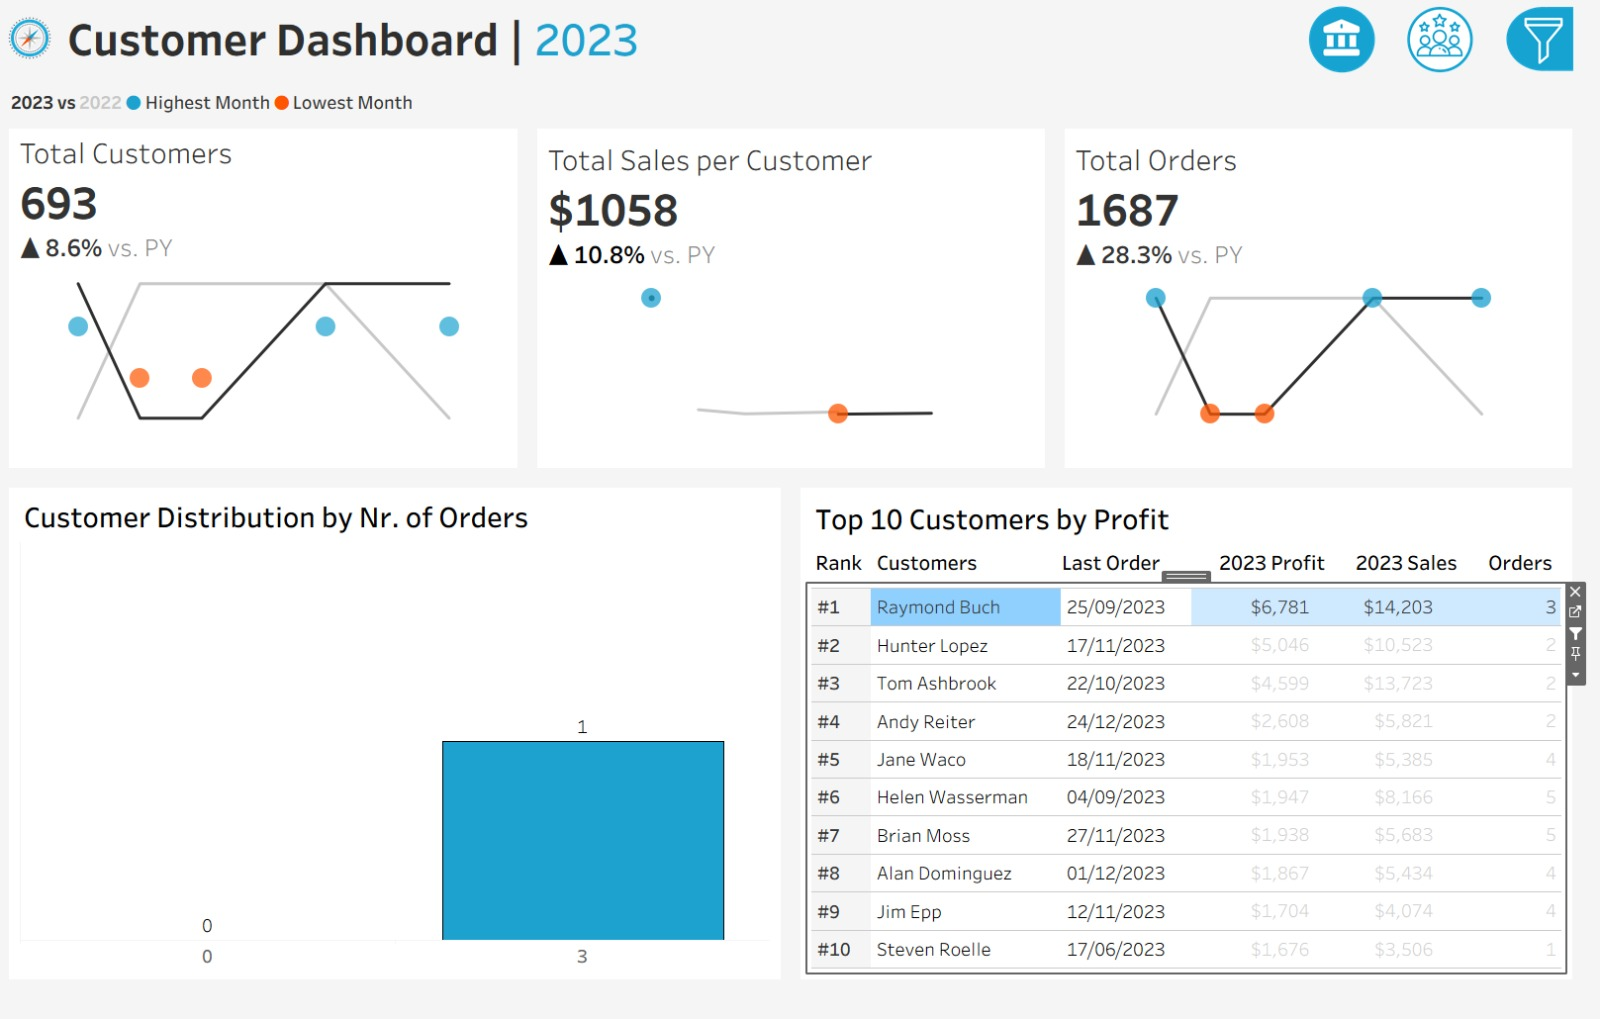

The dashboard page shown, as its layout file describes it:
{"tool":"tableau","page":{"name":"Customer Dashboard","canvas":[1600,1000],"ordinal":0},"visuals":[{"type":"image","param":"C:/Users/thean/Documents/Tableau/Curso Udemy/sales-dashboard-project (1)/sales-d","box":[0,0,61,76]},{"type":"text","box":[61,0,1202,76]},{"type":"dashboard-object","box":[1306,1,100,77]},{"type":"dashboard-object","box":[1406,1,100,77]},{"type":"dashboard-object","box":[1506,1,100,77]},{"type":"blank","box":[1244.7,10,342.7,90]},{"type":"worksheet","title":"Legends KPI","mark":"Automatic","box":[0,76,1600,54]},{"type":"text","box":[1244.7,100,342.7,47]},{"type":"worksheet","title":"KPI Customers","mark":"Automatic","rows":["Min/Max Sales (copia)_1171261644341273"],"cols":["Order Date"],"box":[0,130,534,353]},{"type":"worksheet","title":"KPI Sales per cust.","mark":"Automatic","rows":["Calculation_1171261718073372"],"cols":["Order Date"],"box":[534,130,533,353]},{"type":"worksheet","title":"KPI Orders","mark":"Automatic","rows":["Calculation_1171261723463713"],"cols":["Order Date"],"box":[1067,130,533,353]},{"type":"parameter","param":"[Parameters].[Parámetro 1]","box":[1244.7,147,342.7,60]},{"type":"text","box":[1244.7,207,342.7,42]},{"type":"filter","title":"KPI Customers","param":"[federated.1usaflp05rs750141jv3z0yhu4k8].[none:Category:nk]","box":[1244.7,249,342.7,70]},{"type":"filter","title":"KPI Customers","param":"[federated.1usaflp05rs750141jv3z0yhu4k8].[none:Sub-Category:nk]","box":[1244.7,319,342.7,70]},{"type":"text","box":[1244.7,389,342.7,42]},{"type":"filter","title":"KPI Customers","param":"[federated.1usaflp05rs750141jv3z0yhu4k8].[none:Region:nk]","box":[1244.7,431,342.7,70]},{"type":"text","box":[17,500,766,44]},{"type":"text","box":[817,500,766,47]},{"type":"filter","title":"KPI Customers","param":"[federated.1usaflp05rs750141jv3z0yhu4k8].[none:State:nk]","box":[1244.7,501,342.7,70]},{"type":"worksheet","title":"Customer Distribution","mark":"Bar","rows":["Calculation_1171261634609168"],"cols":["Calculation_1171261729288230"],"box":[17,544,766,439]},{"type":"text","box":[817,547,62,43]},{"type":"text","box":[879,547,187,43]},{"type":"text","box":[1066,547,159,43]},{"type":"text","box":[1225,547,138,43]},{"type":"text","box":[1363,547,134,43]},{"type":"text","box":[1497,547,86,43]},{"type":"filter","title":"KPI Customers","param":"[federated.1usaflp05rs750141jv3z0yhu4k8].[none:City:nk]","box":[1244.7,571,342.7,70]},{"type":"worksheet","title":"Top Customers","mark":"Automatic","rows":["Calculation_1171261734461482","Customer Name","Order Date"],"box":[817,590,766,393]}]}

Visuals, with their boxes in screenshot pixels (x1, y1, x2, y2), scaled from the page's 1600x1000 canvas onto the 1600x1019 screenshot:
image: bbox(0, 0, 61, 77)
text: bbox(61, 0, 1263, 77)
dashboard-object: bbox(1306, 1, 1406, 79)
dashboard-object: bbox(1406, 1, 1506, 79)
dashboard-object: bbox(1506, 1, 1599, 79)
blank: bbox(1245, 10, 1587, 102)
"Legends KPI" worksheet: bbox(0, 77, 1599, 132)
text: bbox(1245, 102, 1587, 150)
"KPI Customers" worksheet: bbox(0, 132, 534, 492)
"KPI Sales per cust." worksheet: bbox(534, 132, 1067, 492)
"KPI Orders" worksheet: bbox(1067, 132, 1599, 492)
parameter: bbox(1245, 150, 1587, 211)
text: bbox(1245, 211, 1587, 254)
"KPI Customers" filter: bbox(1245, 254, 1587, 325)
"KPI Customers" filter: bbox(1245, 325, 1587, 396)
text: bbox(1245, 396, 1587, 439)
"KPI Customers" filter: bbox(1245, 439, 1587, 511)
text: bbox(17, 509, 783, 554)
text: bbox(817, 509, 1583, 557)
"KPI Customers" filter: bbox(1245, 511, 1587, 582)
"Customer Distribution" worksheet (Bar marks): bbox(17, 554, 783, 1002)
text: bbox(817, 557, 879, 601)
text: bbox(879, 557, 1066, 601)
text: bbox(1066, 557, 1225, 601)
text: bbox(1225, 557, 1363, 601)
text: bbox(1363, 557, 1497, 601)
text: bbox(1497, 557, 1583, 601)
"KPI Customers" filter: bbox(1245, 582, 1587, 653)
"Top Customers" worksheet: bbox(817, 601, 1583, 1002)
